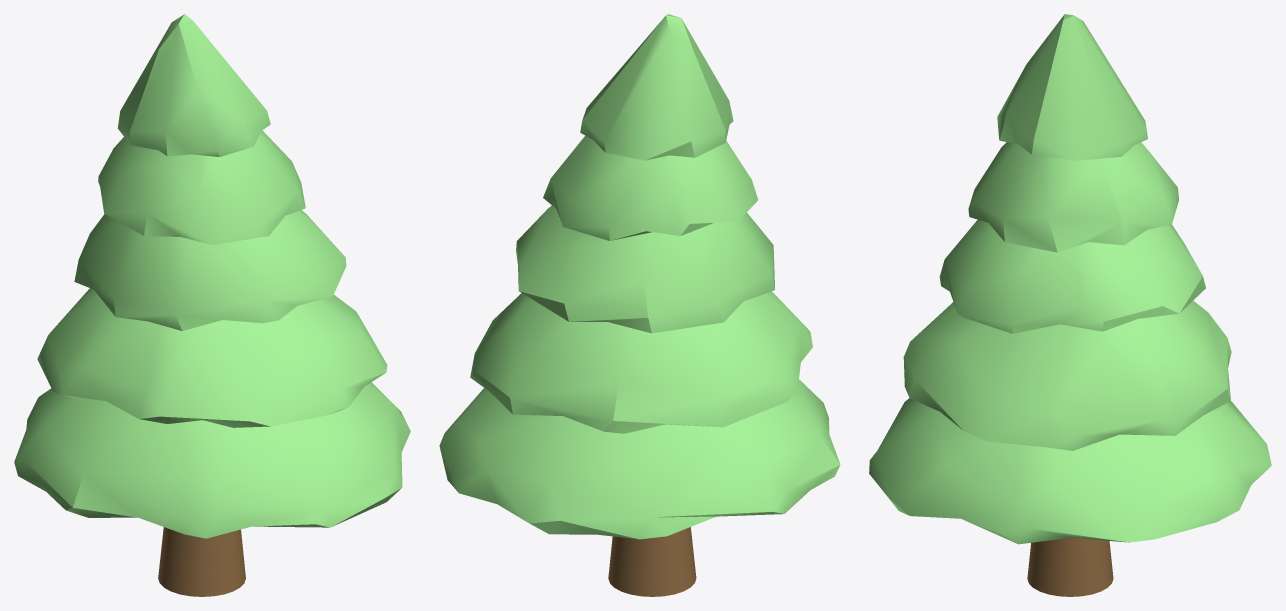
Rendered from spur1.glb.
The picture shows the model from 3 angles, left to right: view 1: azimuth 30°, elevation 25°; view 2: azimuth 150°, elevation 25°; view 3: azimuth 270°, elevation 25°; orthographic projection. The views are drawn at different scales.
Visible parts, largest first — view 1: spur_leaves_2, spur_trunk_2; view 2: spur_leaves_2, spur_trunk_2; view 3: spur_leaves_2, spur_trunk_2.
Boxes of the visible parts, x1=… form: spur_leaves_2: x1=14, y1=14, x2=410, y2=538; spur_trunk_2: x1=158, y1=527, x2=245, y2=596; spur_leaves_2: x1=439, y1=14, x2=840, y2=539; spur_trunk_2: x1=608, y1=527, x2=696, y2=596; spur_leaves_2: x1=869, y1=14, x2=1271, y2=544; spur_trunk_2: x1=1027, y1=537, x2=1113, y2=596.
Bounding box in the file's own units: 9.46 × 15.18 × 9.97.
